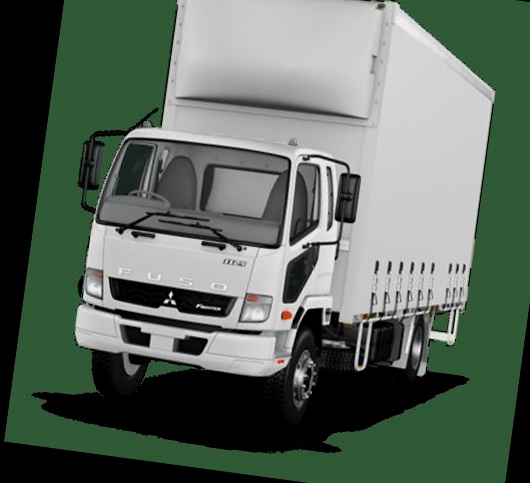truck: (65, 0, 508, 452)
